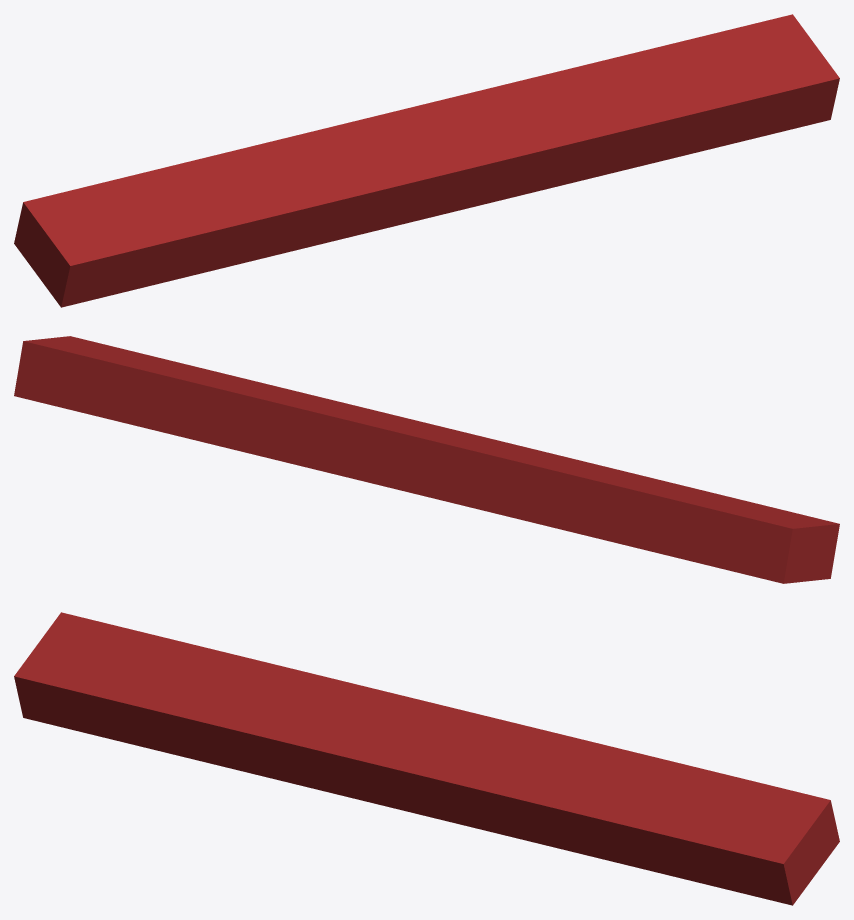
File: Asian_Prop_Building_Modular_Roof_Beam_03.FBX
The picture shows the model from 3 angles, top to bottom: view 1: azimuth 30°, elevation 25°; view 2: azimuth 150°, elevation 25°; view 3: azimuth 330°, elevation 25°; orthographic projection.
Parts seen in each view (by area): view 1: Asian_Prop_Building_Modular_Roof_Beam_03; view 2: Asian_Prop_Building_Modular_Roof_Beam_03; view 3: Asian_Prop_Building_Modular_Roof_Beam_03.
Boxes of the visible parts, <box> form: Asian_Prop_Building_Modular_Roof_Beam_03: <box>14,14,839,307</box>; Asian_Prop_Building_Modular_Roof_Beam_03: <box>14,336,839,583</box>; Asian_Prop_Building_Modular_Roof_Beam_03: <box>14,612,839,905</box>.
Size of the model in its own units: 3875 by 374 by 492.
